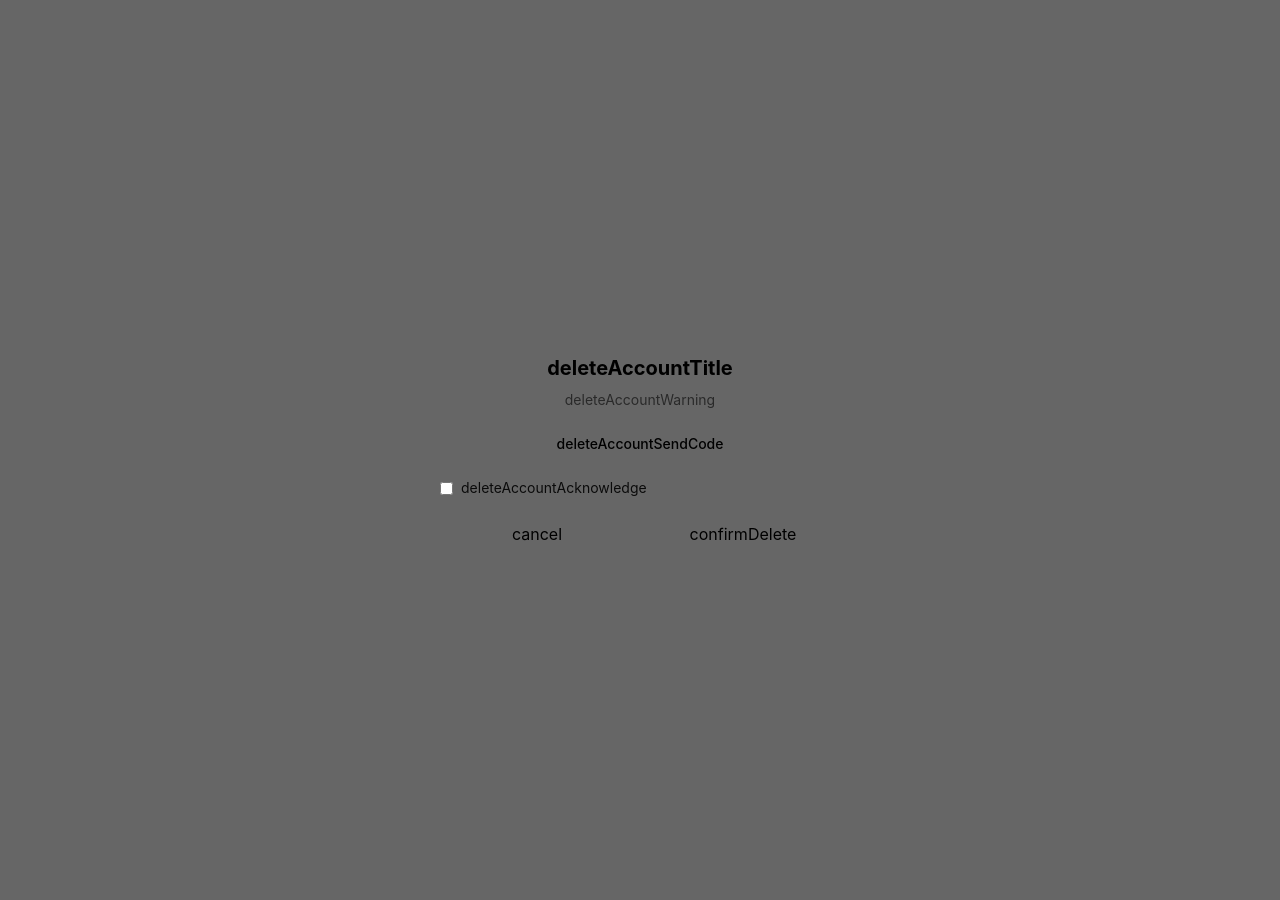
DeleteAccountModal › oauth: shows error when request-deletion-otp fails
The width and height of the screenshot is (1280, 900).
Click the button "deleteAccountSendCode".
click(640, 444)  # box [440,426,840,462]
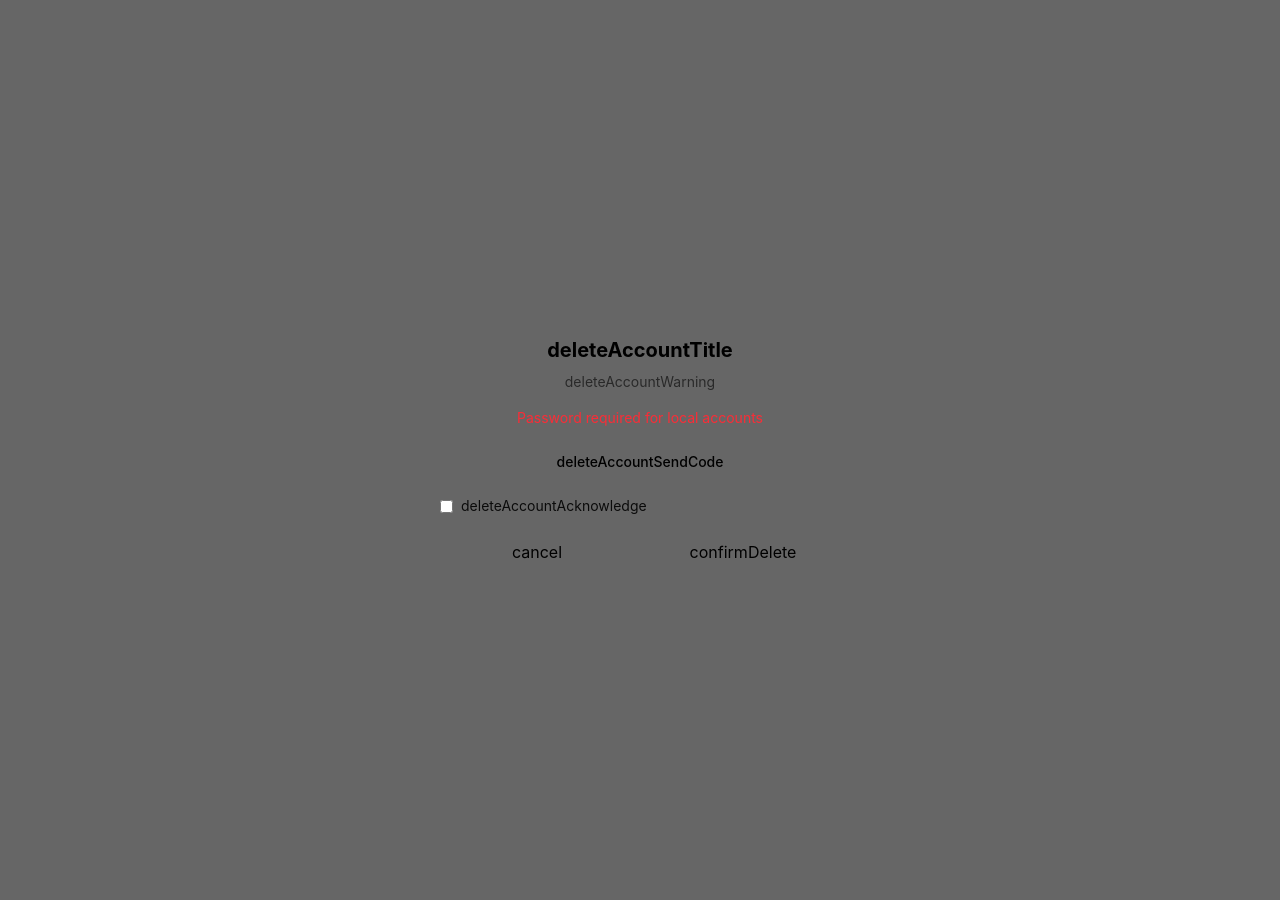
Result: the text "Password required for local accounts" is shown at [517,409,763,426]
